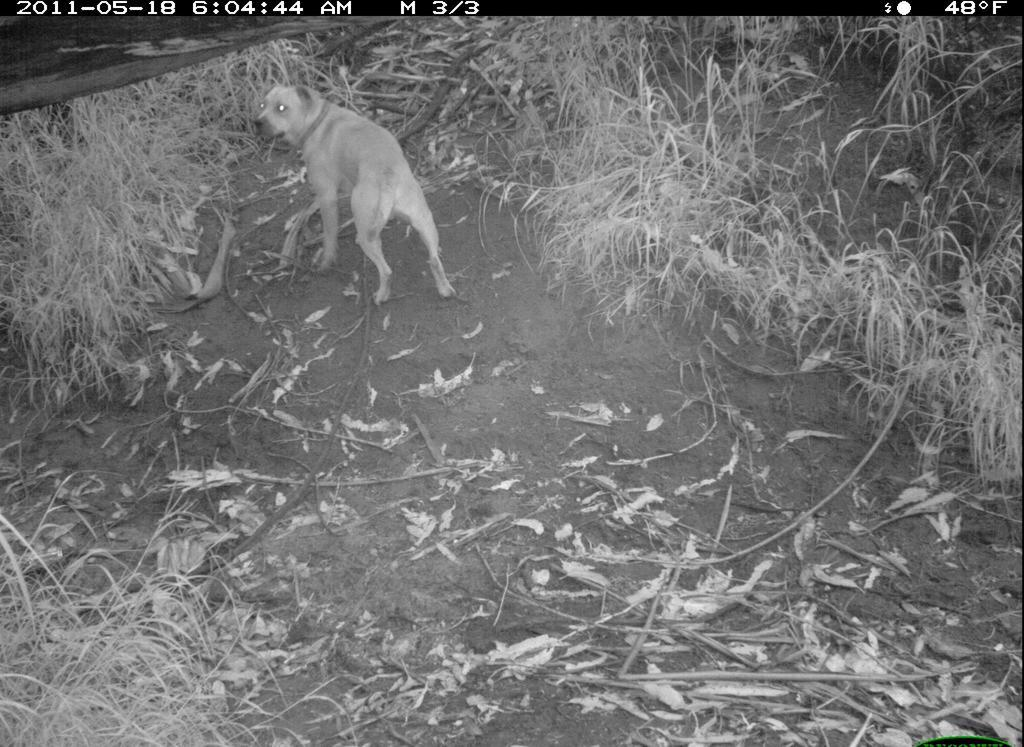dog: (244, 75, 473, 318)
